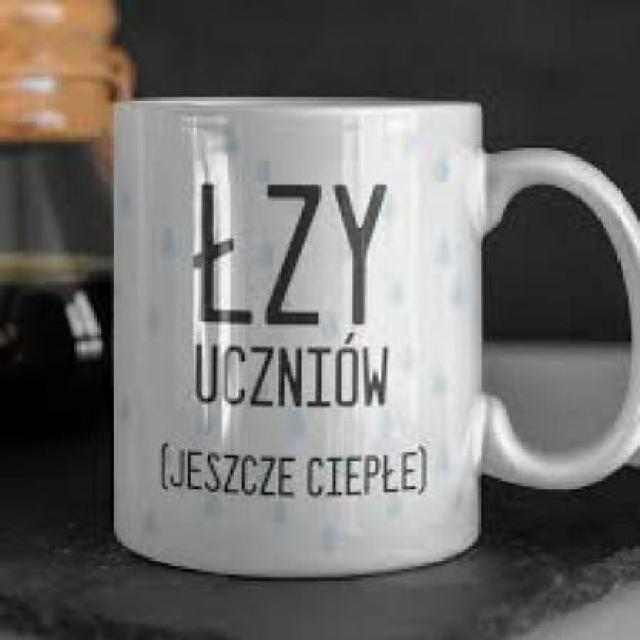cup: (103, 94, 638, 586)
